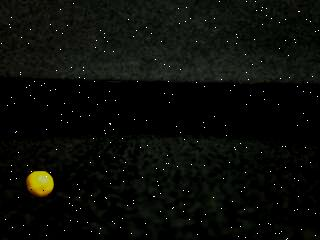Lemon: (27, 170, 55, 199)
